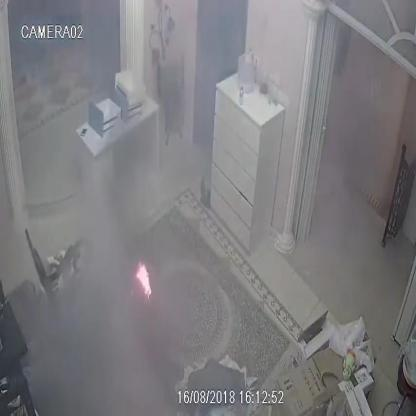fire: (136, 262, 152, 296)
